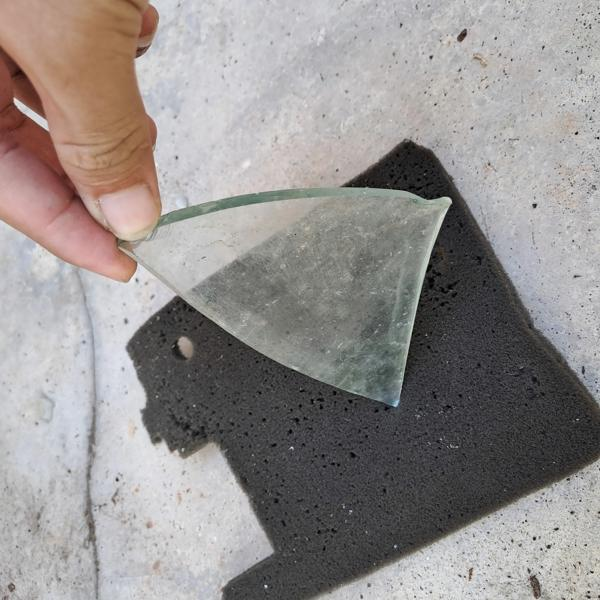Anorganik: (136, 174, 466, 409)
